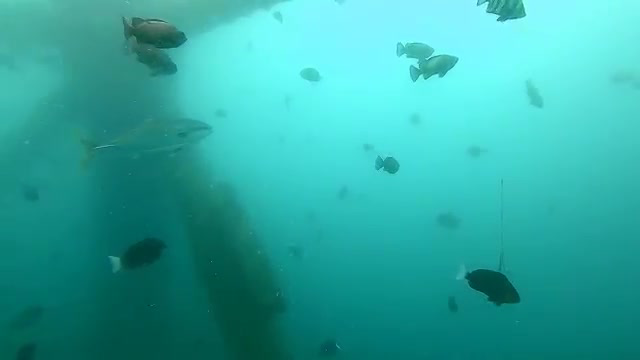hama: (71, 112, 216, 159)
smallfish: (448, 262, 538, 314), (114, 15, 192, 51), (110, 231, 176, 272), (407, 48, 462, 90), (478, 1, 536, 29), (393, 35, 438, 67), (375, 151, 413, 176)
